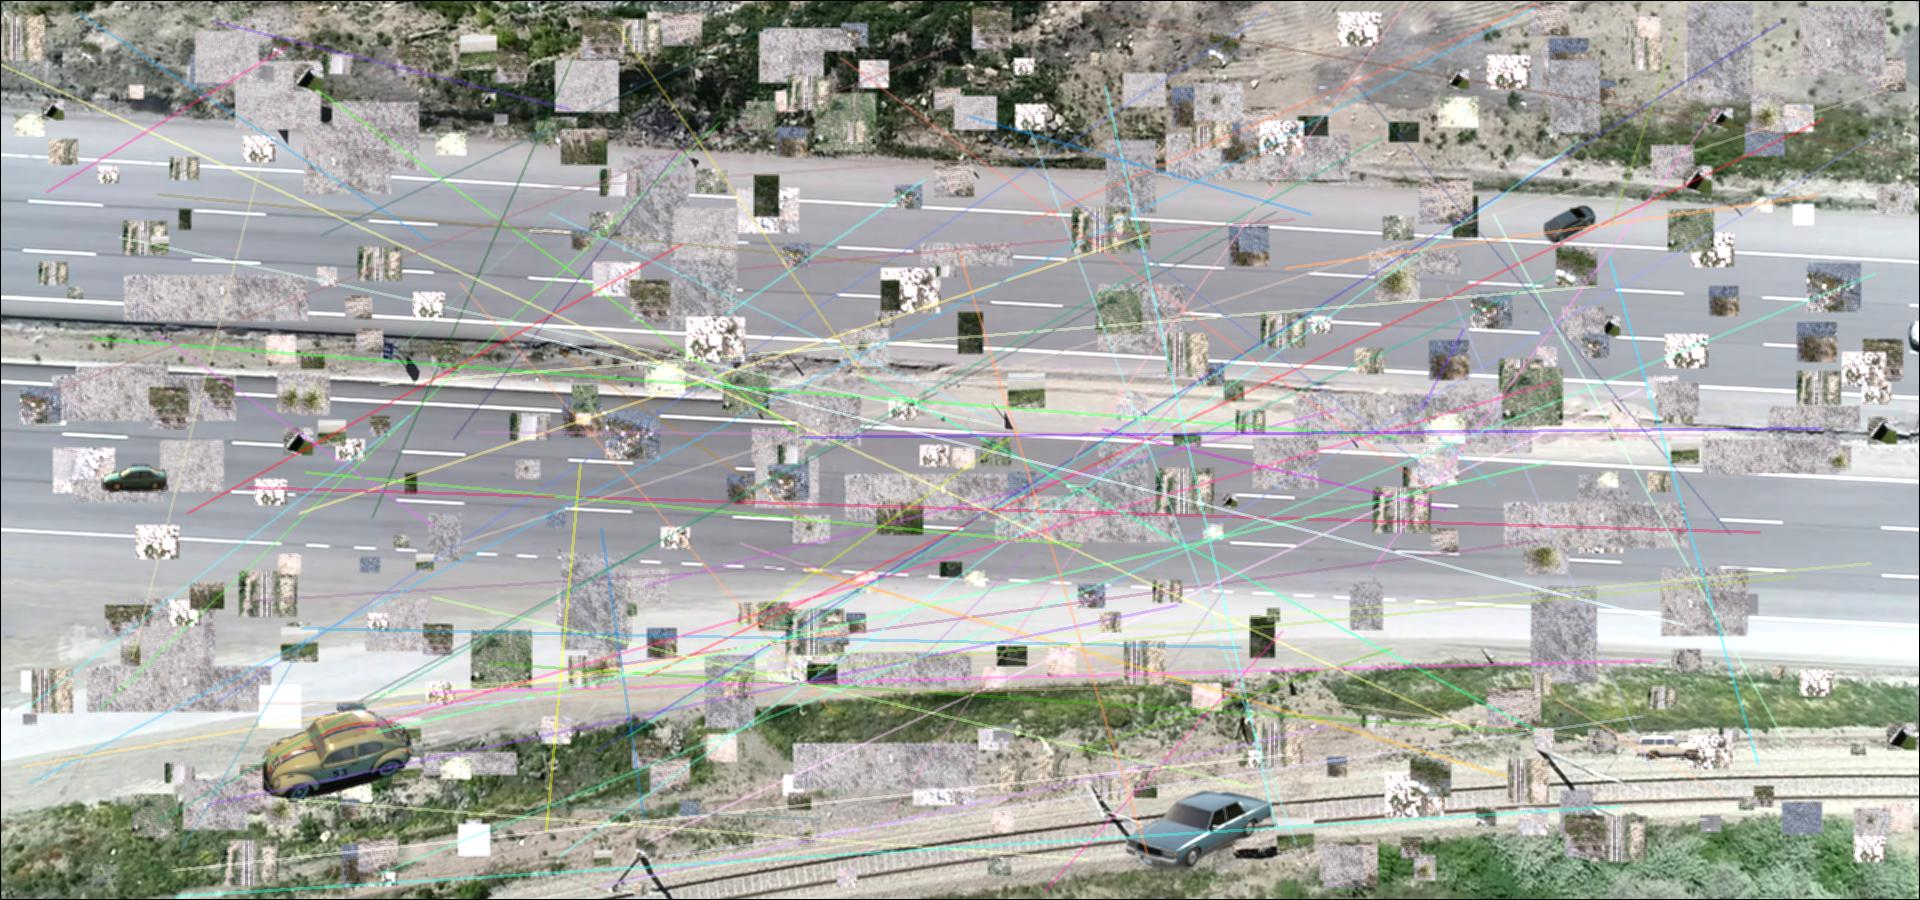arac: (263, 703, 411, 803), (1127, 790, 1273, 869), (1542, 204, 1597, 242), (100, 465, 170, 492), (1635, 735, 1700, 760)
